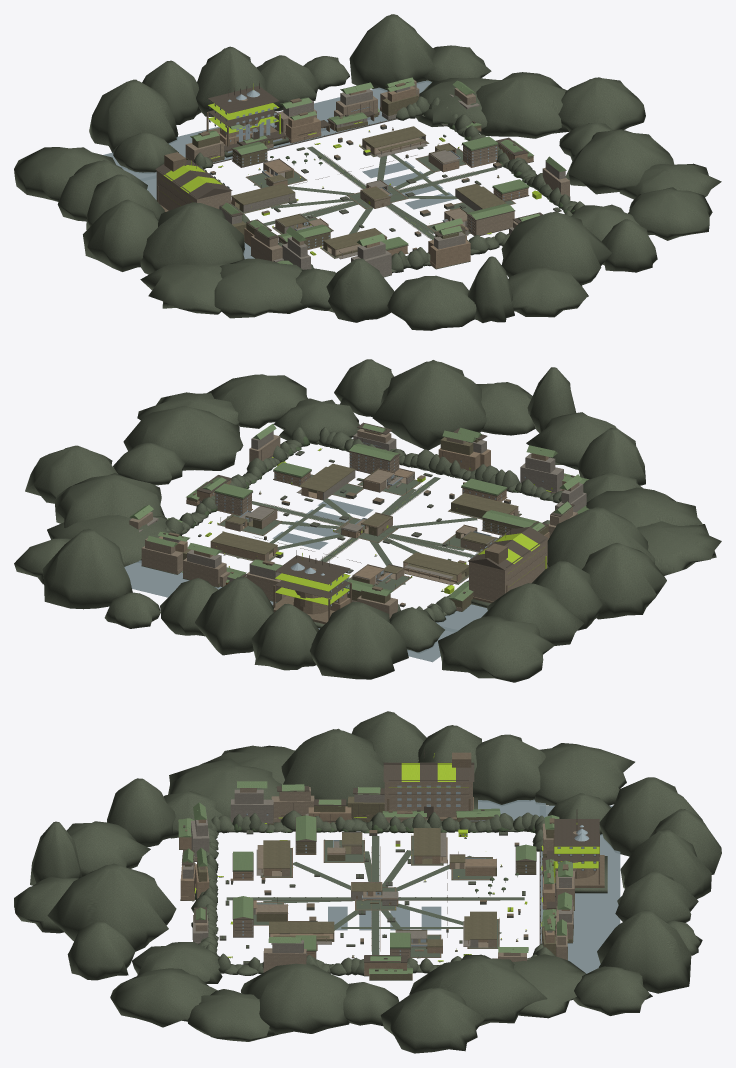
The model's file is kohan-lod0.glb.
3 views of the same model, one above another, from view 1: azimuth 30°, elevation 25°; view 2: azimuth 150°, elevation 25°; view 3: azimuth 270°, elevation 25° (orthographic). The views are drawn at different scales.
Visible parts, largest first — view 1: HB_kohan_LOD0_terrain, HB_kohan_LOD0_wall_weathered, HB_kohan_LOD0_wall, HB_kohan_LOD0_roof, HB_kohan_LOD0_wall_cool, HB_kohan_LOD0_road, HB_kohan_LOD0_wall_warm, HB_kohan_LOD0_water, HB_kohan_LOD0_trim, HB_kohan_LOD0_wall_alt, HB_kohan_LOD0_LANDMARK_0_trim, HB_kohan_LOD0_LANDMARK_1_wall (+5 smaller); view 2: HB_kohan_LOD0_terrain, HB_kohan_LOD0_wall, HB_kohan_LOD0_wall_weathered, HB_kohan_LOD0_roof, HB_kohan_LOD0_road, HB_kohan_LOD0_wall_cool, HB_kohan_LOD0_wall_warm, HB_kohan_LOD0_water, HB_kohan_LOD0_trim, HB_kohan_LOD0_LANDMARK_1_wall, HB_kohan_LOD0_LANDMARK_0_trim, HB_kohan_LOD0_wall_alt (+6 smaller); view 3: HB_kohan_LOD0_terrain, HB_kohan_LOD0_wall_weathered, HB_kohan_LOD0_roof, HB_kohan_LOD0_water, HB_kohan_LOD0_road, HB_kohan_LOD0_wall, HB_kohan_LOD0_wall_cool, HB_kohan_LOD0_wall_warm, HB_kohan_LOD0_trim, HB_kohan_LOD0_LANDMARK_1_wall, HB_kohan_LOD0_wall_alt, HB_kohan_LOD0_LANDMARK_0_trim (+6 smaller).
Boxes of the visible parts, x1,y1,x2,y2 form: HB_kohan_LOD0_terrain: (14, 14, 721, 330); HB_kohan_LOD0_wall_weathered: (186, 94, 533, 257); HB_kohan_LOD0_wall: (185, 80, 569, 274); HB_kohan_LOD0_roof: (190, 77, 566, 264); HB_kohan_LOD0_wall_cool: (219, 86, 570, 276); HB_kohan_LOD0_road: (219, 131, 515, 258); HB_kohan_LOD0_wall_warm: (218, 86, 533, 268); HB_kohan_LOD0_water: (103, 80, 456, 259); HB_kohan_LOD0_trim: (207, 82, 558, 250); HB_kohan_LOD0_wall_alt: (199, 82, 553, 258); HB_kohan_LOD0_LANDMARK_0_trim: (208, 81, 279, 139); HB_kohan_LOD0_LANDMARK_1_wall: (156, 170, 231, 210); HB_kohan_LOD0_terrain: (14, 359, 721, 682); HB_kohan_LOD0_wall: (129, 428, 579, 618); HB_kohan_LOD0_wall_weathered: (175, 437, 548, 611); HB_kohan_LOD0_roof: (129, 424, 589, 601); HB_kohan_LOD0_road: (210, 450, 521, 591); HB_kohan_LOD0_wall_cool: (139, 431, 586, 583); HB_kohan_LOD0_wall_warm: (159, 429, 566, 611); HB_kohan_LOD0_water: (124, 499, 487, 662); HB_kohan_LOD0_trim: (156, 422, 574, 606); HB_kohan_LOD0_LANDMARK_1_wall: (469, 540, 547, 601); HB_kohan_LOD0_LANDMARK_0_trim: (275, 550, 350, 606); HB_kohan_LOD0_wall_alt: (168, 455, 565, 605); HB_kohan_LOD0_terrain: (14, 711, 721, 1053); HB_kohan_LOD0_wall_weathered: (185, 796, 572, 979); HB_kohan_LOD0_roof: (178, 781, 572, 973); HB_kohan_LOD0_water: (328, 799, 620, 973); HB_kohan_LOD0_road: (219, 836, 526, 962); HB_kohan_LOD0_wall: (194, 787, 574, 972); HB_kohan_LOD0_wall_cool: (182, 789, 572, 975); HB_kohan_LOD0_wall_warm: (179, 806, 574, 979); HB_kohan_LOD0_trim: (182, 786, 568, 971); HB_kohan_LOD0_LANDMARK_1_wall: (384, 782, 472, 816); HB_kohan_LOD0_wall_alt: (185, 810, 568, 970); HB_kohan_LOD0_LANDMARK_0_trim: (549, 809, 599, 870).
Size of the model in its own units: 641 by 65.16 by 631.
Materials: 16 (13 with a texture image).
